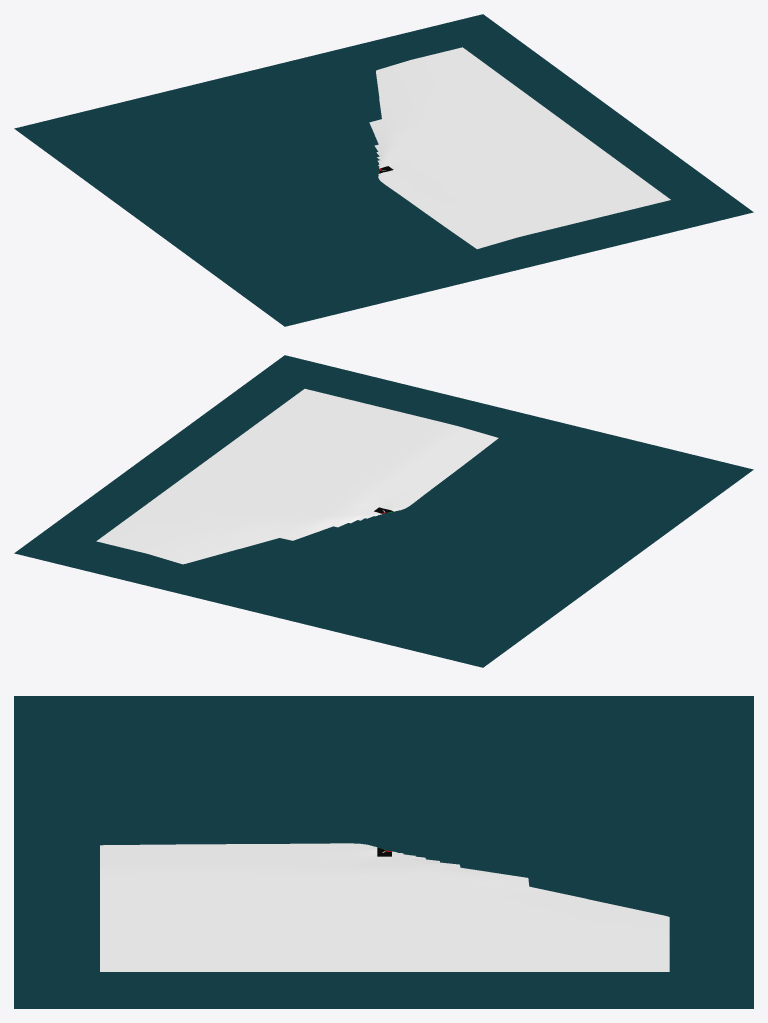
The model's file is Mirleft_Bay_D5.fbx.
3 views of the same model, one above another, from view 1: azimuth 30°, elevation 25°; view 2: azimuth 150°, elevation 25°; view 3: azimuth 270°, elevation 25° (orthographic). The views are drawn at different scales.
Visible parts, largest first — view 1: OCEAN, TERRAIN_FAR; view 2: OCEAN, TERRAIN_FAR; view 3: OCEAN, TERRAIN_FAR.
Boxes of the visible parts, x1,y1,x2,y2 form: OCEAN: (14,14,753,326); TERRAIN_FAR: (369,47,670,249); OCEAN: (14,355,753,667); TERRAIN_FAR: (96,389,498,564); OCEAN: (14,696,753,1008); TERRAIN_FAR: (100,843,669,971).
Bounding box in the file's own units: 80000 × 498 × 80000.
